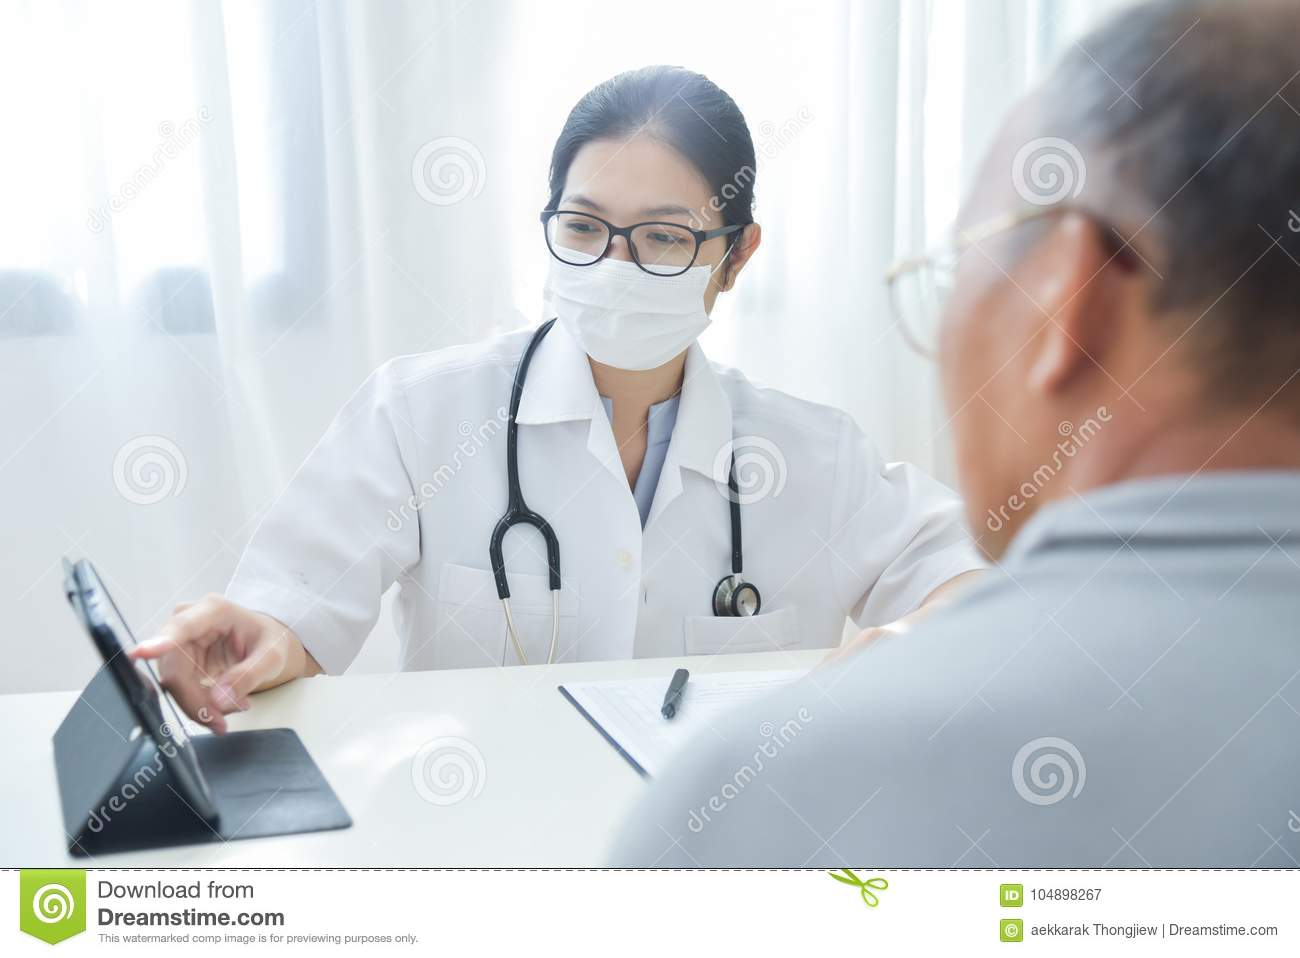mask: (542, 253, 717, 370)
